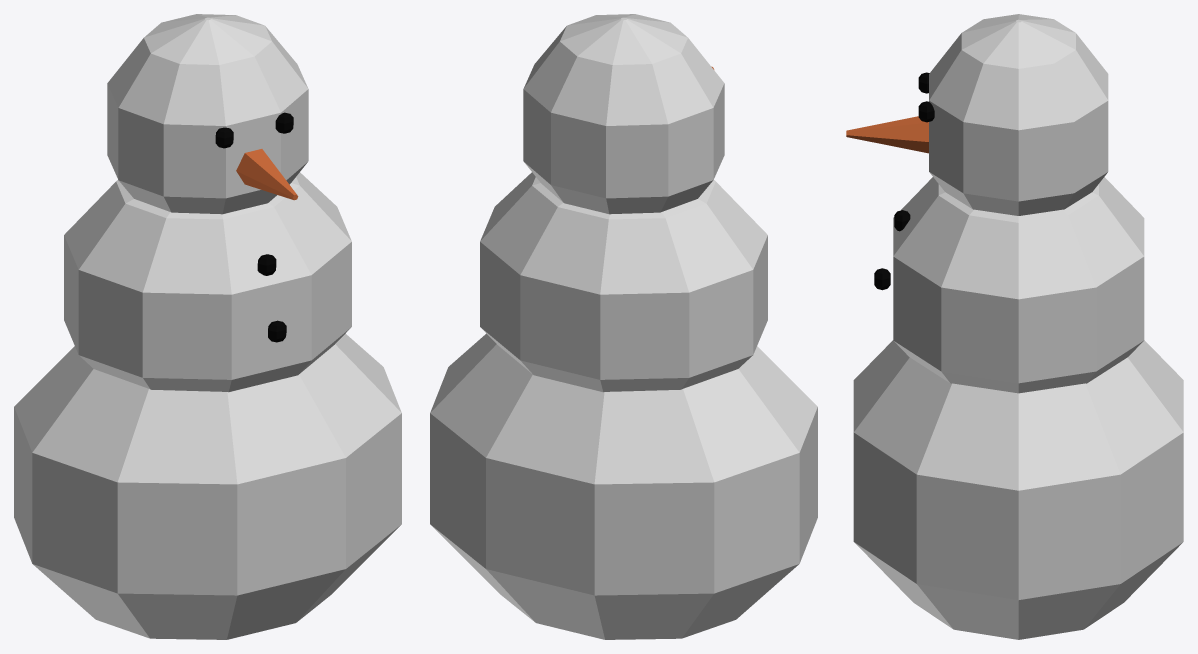
Rendered from snowman.glb.
The picture shows the model from 3 angles, left to right: view 1: azimuth 30°, elevation 25°; view 2: azimuth 150°, elevation 25°; view 3: azimuth 270°, elevation 25°; orthographic projection.
Parts seen in each view (by area): view 1: Snow_Body, Coal_And_Carrot; view 2: Snow_Body; view 3: Snow_Body, Coal_And_Carrot.
Part boxes in pixels (x1=…): Snow_Body: x1=14, y1=14, x2=401, y2=639; Coal_And_Carrot: x1=215, y1=112, x2=298, y2=342; Snow_Body: x1=430, y1=14, x2=817, y2=639; Snow_Body: x1=853, y1=14, x2=1183, y2=639; Coal_And_Carrot: x1=846, y1=72, x2=934, y2=290.
Size of the model in its own units: 0.9964 by 1.64 by 0.8412.
Materials: 1 (1 with a texture image).
